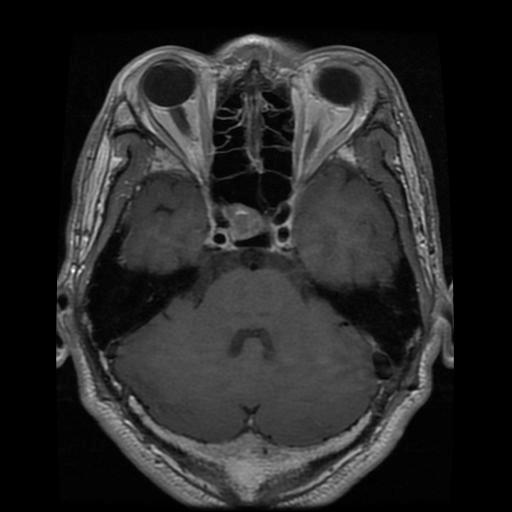Tumour-Pituitary: (208, 203, 298, 256)
